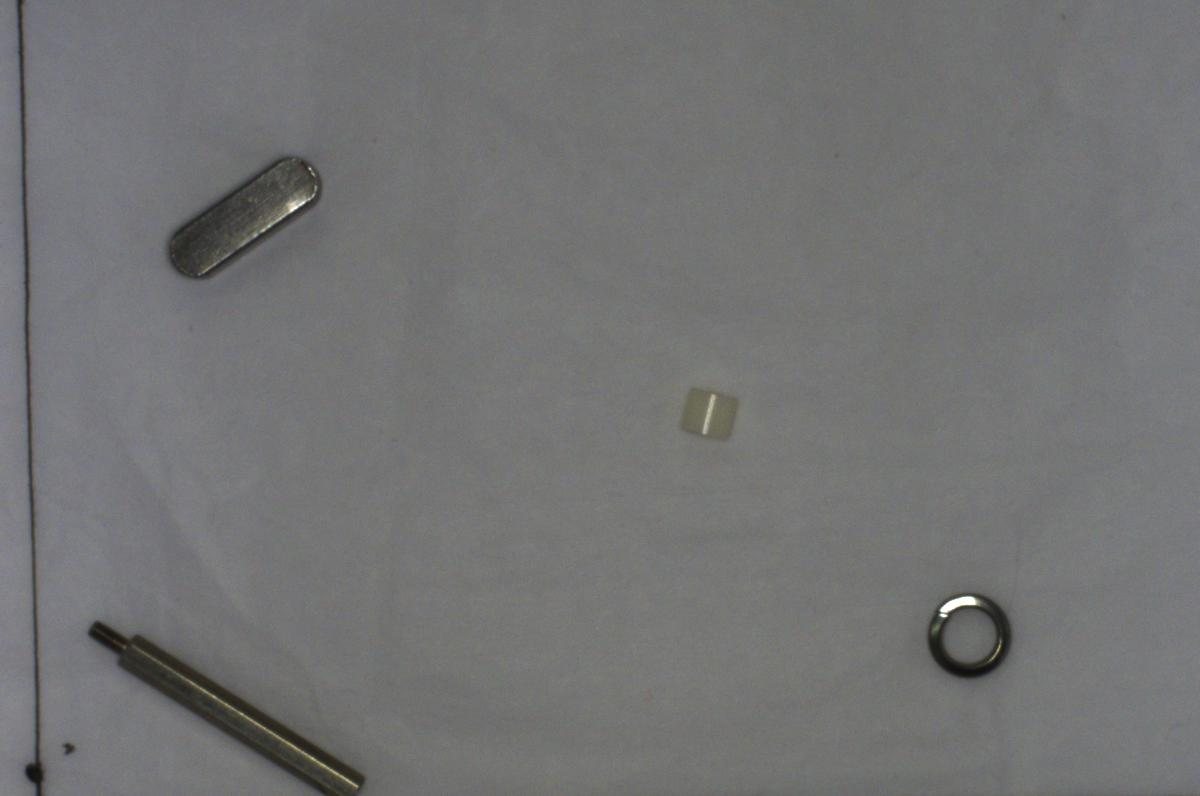Hexagonal steel column: (78, 612, 376, 795)
Keybar: (150, 143, 326, 288)
Plastic cushion pillar: (672, 379, 745, 446)
Spring washer: (921, 583, 1021, 685)
